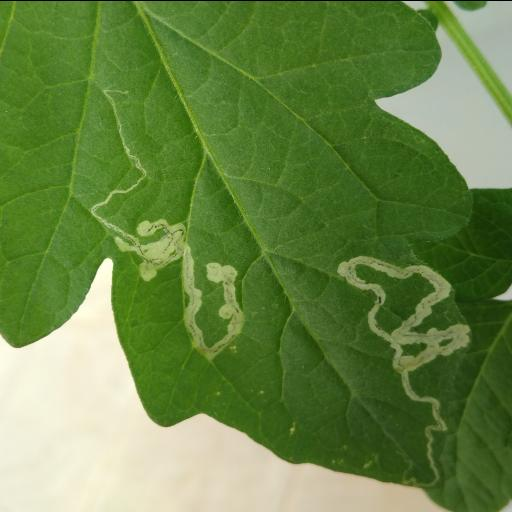Leaf Miner: (0, 0, 478, 493)
